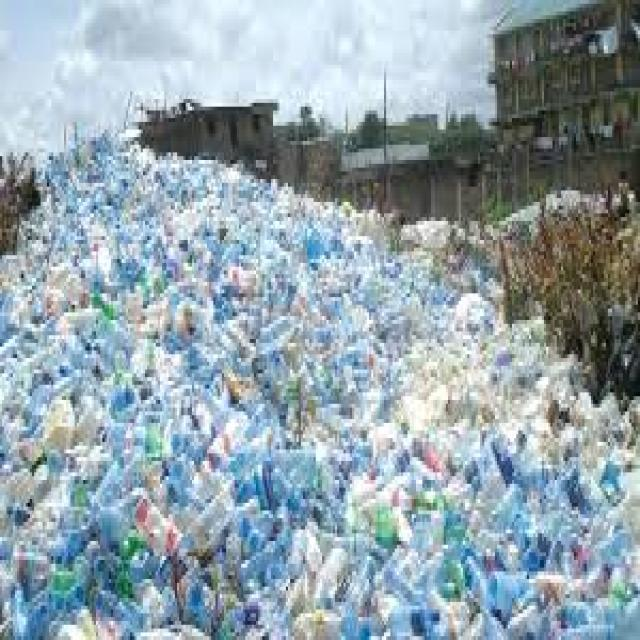heap: (33, 214, 532, 640)
